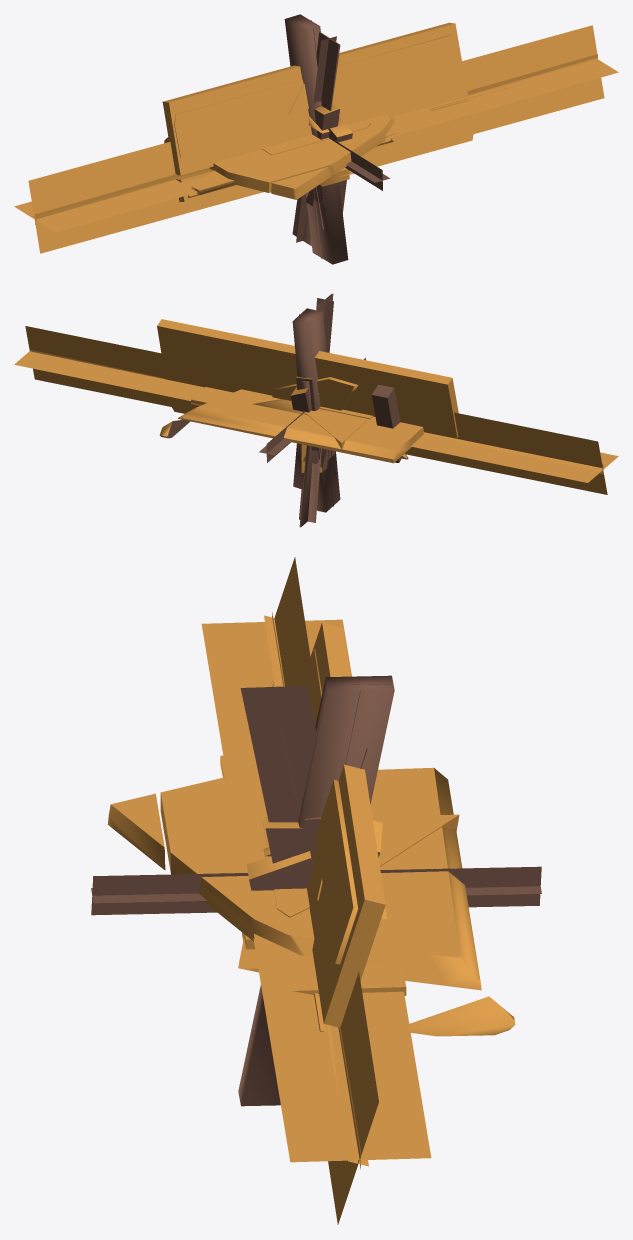
Rendered from node_001_chunks.glb.
The picture shows the model from 3 angles, top to bottom: view 1: azimuth 30°, elevation 25°; view 2: azimuth 150°, elevation 25°; view 3: azimuth 270°, elevation 25°; orthographic projection. The views are drawn at different scales.
Visible parts, largest first — view 1: Node.024, Node.003_cell.016, Node.003_cell.021, Node.003_cell.025, Node.003_cell.015, Node.003_cell.004, Node.018, Node.006, Node.007, Node.003_cell.029, Node.096, Node.091 (+7 smaller); view 2: Node.003_cell.016, Node.023, Node.003_cell.025, Node.018, Node.003_cell.004, Node.006, Node.003_cell.030, Node.003_cell.011, Node.080, Node.026, Node.084, Node.092 (+4 smaller); view 3: Node.003_cell.025, Node.018, Node.003_cell.004, Node.003_cell.016, Node.024, Node.095, Node.006, Node.051, Node.003_cell.015, Node.003_cell.029, Node.003_cell.011, Node.003_cell.007 (+5 smaller).
Boxes of the visible parts, x1,y1,x2,y2 form: Node.024: (28,25,604,253); Node.003_cell.016: (162,22,474,201); Node.003_cell.021: (174,79,393,198); Node.003_cell.025: (164,113,395,199); Node.003_cell.015: (288,35,457,113); Node.003_cell.004: (284,14,348,264); Node.018: (385,59,618,138); Node.006: (14,176,206,232); Node.007: (35,54,597,224); Node.003_cell.029: (191,107,436,194); Node.096: (316,32,338,110); Node.091: (296,36,336,242); Node.003_cell.016: (157,319,461,462); Node.023: (25,326,607,494); Node.003_cell.025: (159,389,423,463); Node.018: (14,351,204,400); Node.003_cell.004: (292,308,340,512); Node.006: (410,434,618,482); Node.003_cell.030: (271,377,358,445); Node.003_cell.011: (291,400,373,451); Node.080: (299,298,331,522); Node.026: (423,432,601,471); Node.084: (300,308,317,527); Node.092: (299,298,333,519); Node.003_cell.025: (107,767,515,1036); Node.018: (253,938,431,1162); Node.003_cell.004: (238,675,394,1106); Node.003_cell.016: (307,622,385,1031); Node.024: (274,557,378,1224); Node.095: (240,685,316,822); Node.006: (201,619,397,999); Node.051: (91,866,541,915); Node.003_cell.015: (315,780,358,964); Node.003_cell.029: (220,753,406,995); Node.003_cell.011: (262,814,459,917); Node.003_cell.007: (247,847,312,890).
Bounding box in the file's own units: 2.52 × 0.8887 × 0.8834.
